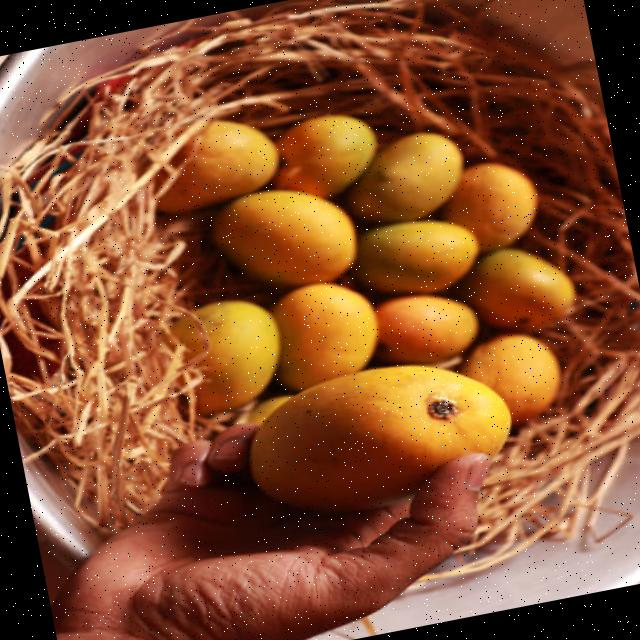mango: (249, 366, 510, 512), (213, 190, 356, 287), (172, 301, 280, 414), (271, 284, 378, 390), (158, 121, 279, 213), (347, 133, 463, 222), (458, 248, 575, 331), (354, 220, 478, 293), (463, 336, 560, 424), (273, 115, 375, 198), (443, 164, 536, 251), (375, 295, 478, 364)
